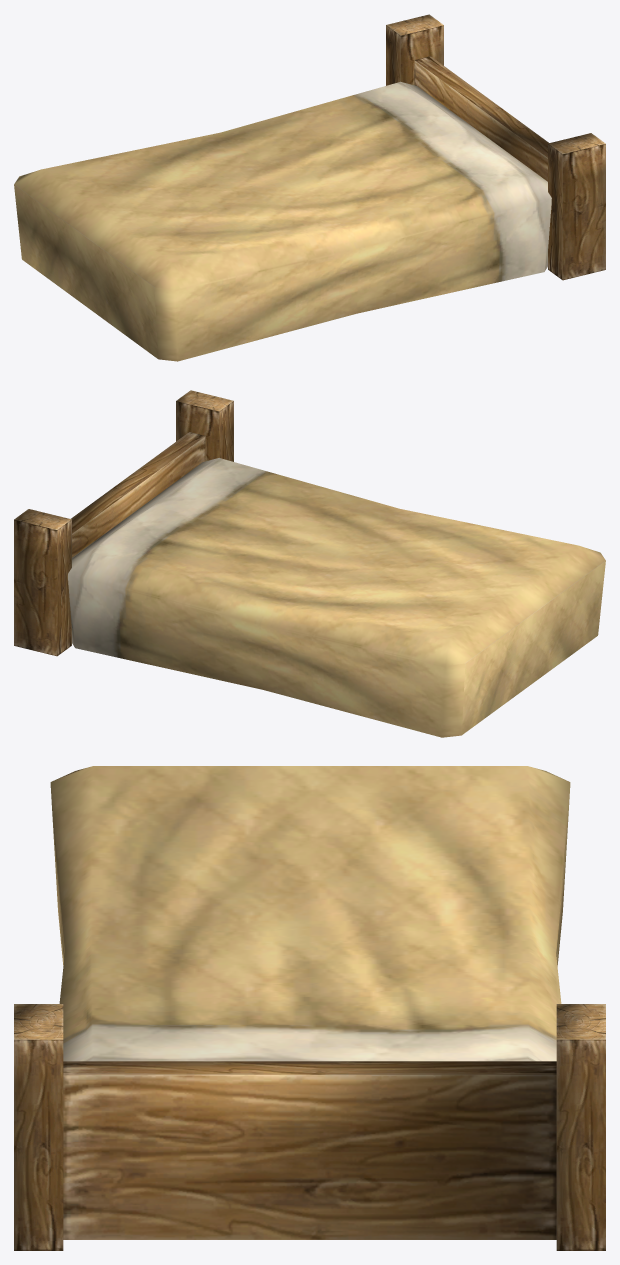
Rendered from innbed.obj.
The picture shows the model from 3 angles, top to bottom: view 1: azimuth 30°, elevation 25°; view 2: azimuth 150°, elevation 25°; view 3: azimuth 270°, elevation 25°; orthographic projection. The views are drawn at different scales.
Visible parts, largest first — view 1: Geoset1, Geoset0, Geoset2; view 2: Geoset1, Geoset0, Geoset2; view 3: Geoset1, Geoset0, Geoset2.
Boxes of the visible parts, x1,y1,x2,y2 form: Geoset1: (14,81,551,361); Geoset0: (386,25,605,280); Geoset2: (386,14,605,153); Geoset1: (68,458,605,737); Geoset0: (14,401,233,656); Geoset2: (14,390,233,529); Geoset1: (50,766,570,1061); Geoset0: (14,1039,605,1250); Geoset2: (14,1004,605,1039).
Size of the model in its own units: 4.78 by 1.33 by 3.38.
Materials: 3 (3 with a texture image).
